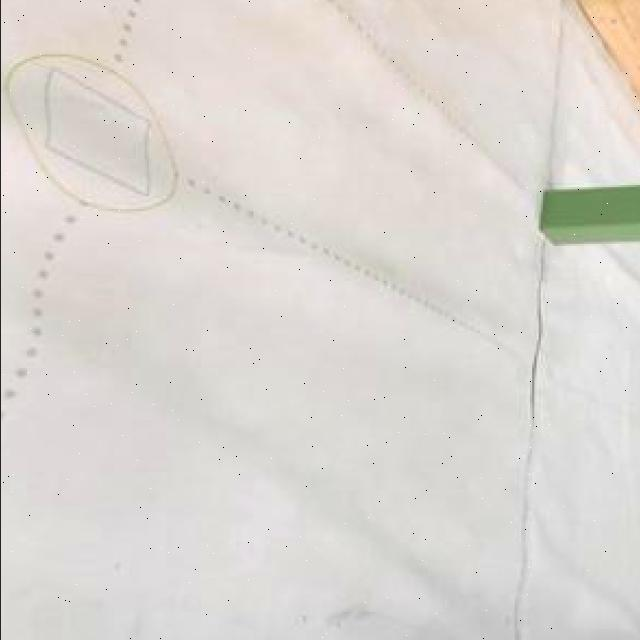greenbox: (538, 179, 640, 244)
